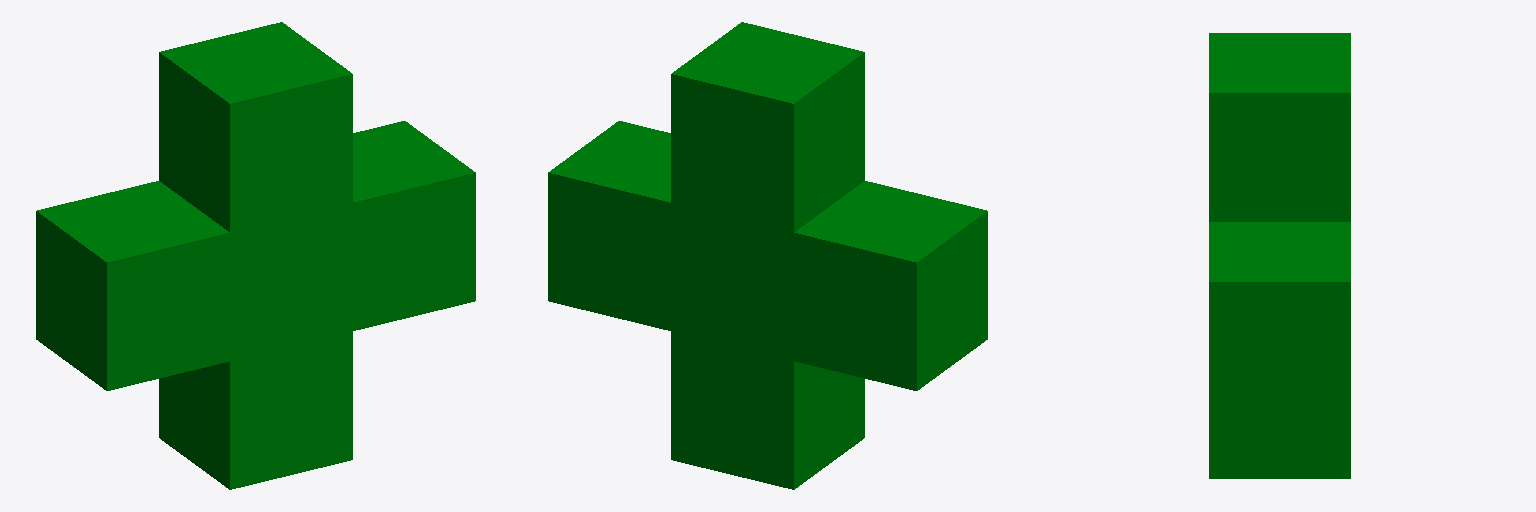
3 views of the same model, side by side, from view 1: azimuth 30°, elevation 25°; view 2: azimuth 150°, elevation 25°; view 3: azimuth 270°, elevation 25° (orthographic).
Visible parts, largest first — view 1: 立方体; view 2: 立方体; view 3: 立方体.
Part boxes in pixels (bbox=[...]): 立方体: bbox=[36, 22, 475, 489]; 立方体: bbox=[548, 22, 987, 489]; 立方体: bbox=[1209, 33, 1350, 478].
Size of the model in its own units: 1.5 by 1.5 by 0.5.
1 materials, 1 textured.